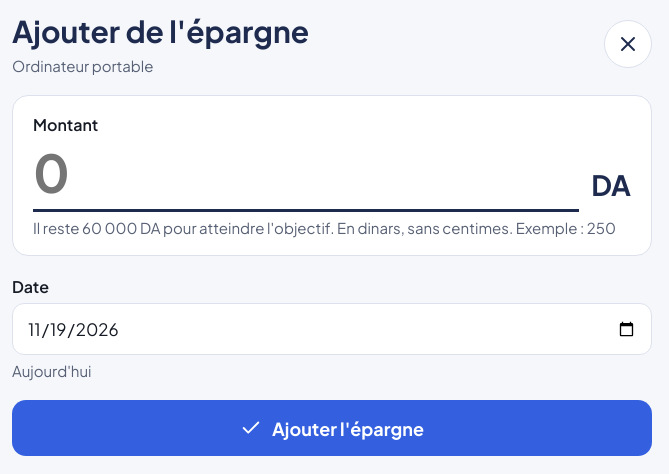
SavingsForm › date future refusée
The image size is (669, 474).
Type "5000" into the field labelled "Montant". click: (306, 174)
box: [33,135,579,212]
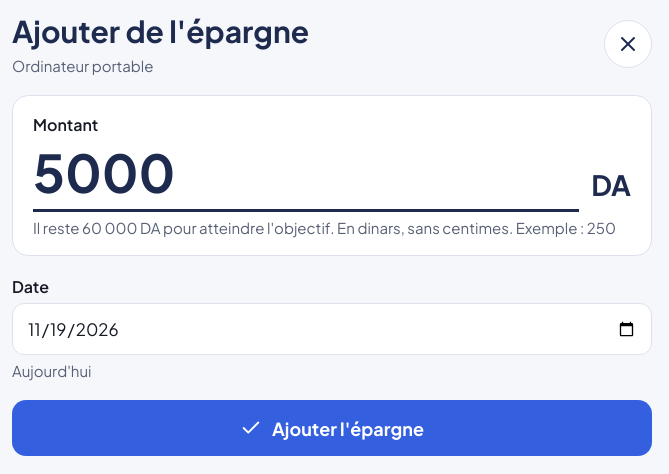
Type "2026-11-25" into the date field labelled "Date". click: (332, 329)
box: [12,303,652,355]
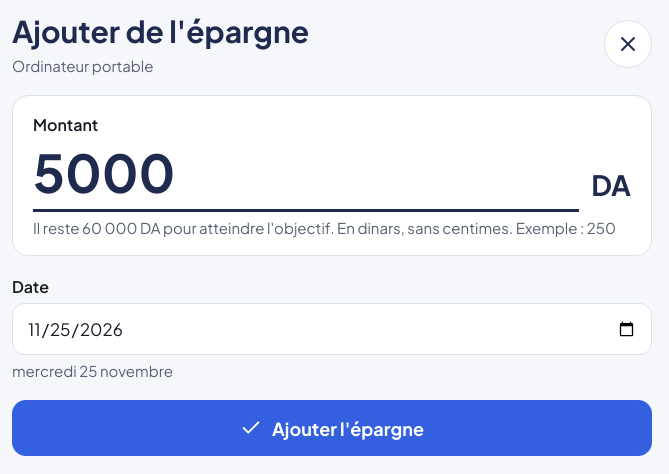
Click the button "Ajouter l'épargne". click: (332, 428)
box: [12,400,652,456]
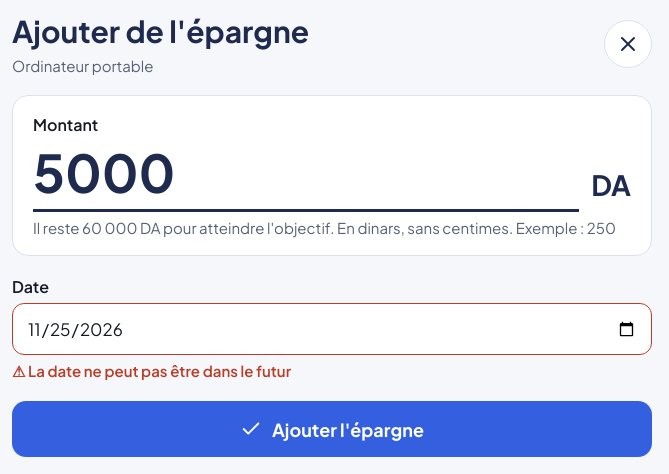
Check: the text "La date ne peut pas être dans le futur" is shown, box [28,361,291,380]
